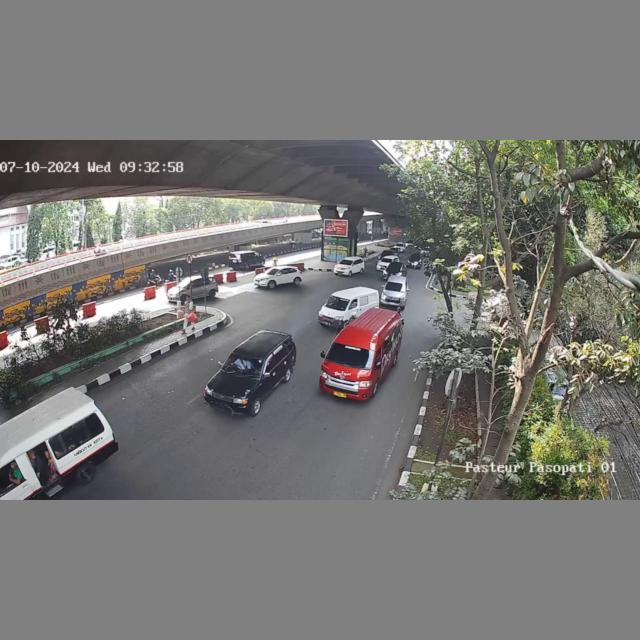windshield: (327, 340, 373, 369), (222, 352, 264, 378), (324, 295, 349, 310), (384, 282, 406, 291)
